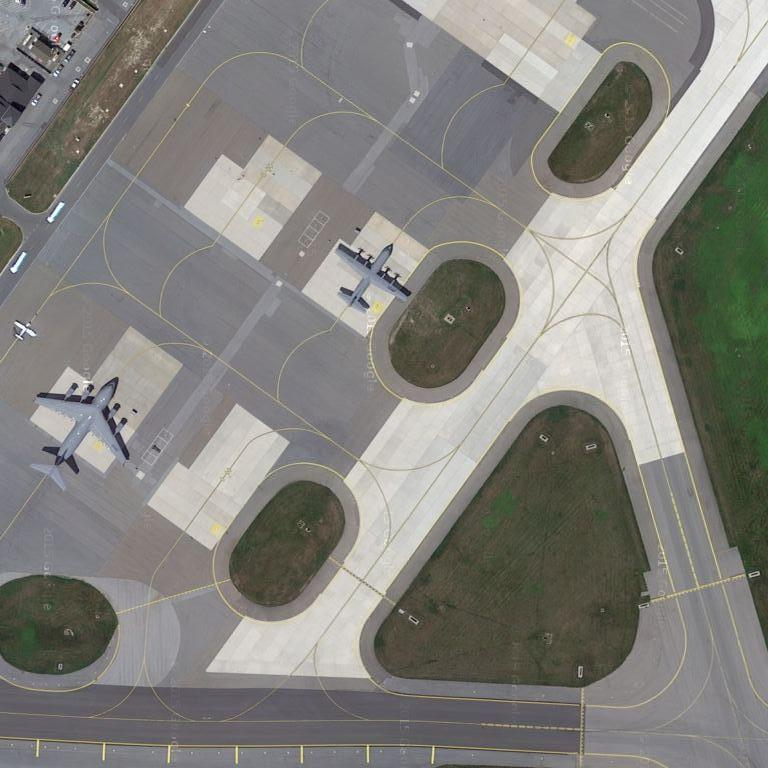C-130: (335, 237, 412, 317)
C-17: (26, 373, 134, 497)
